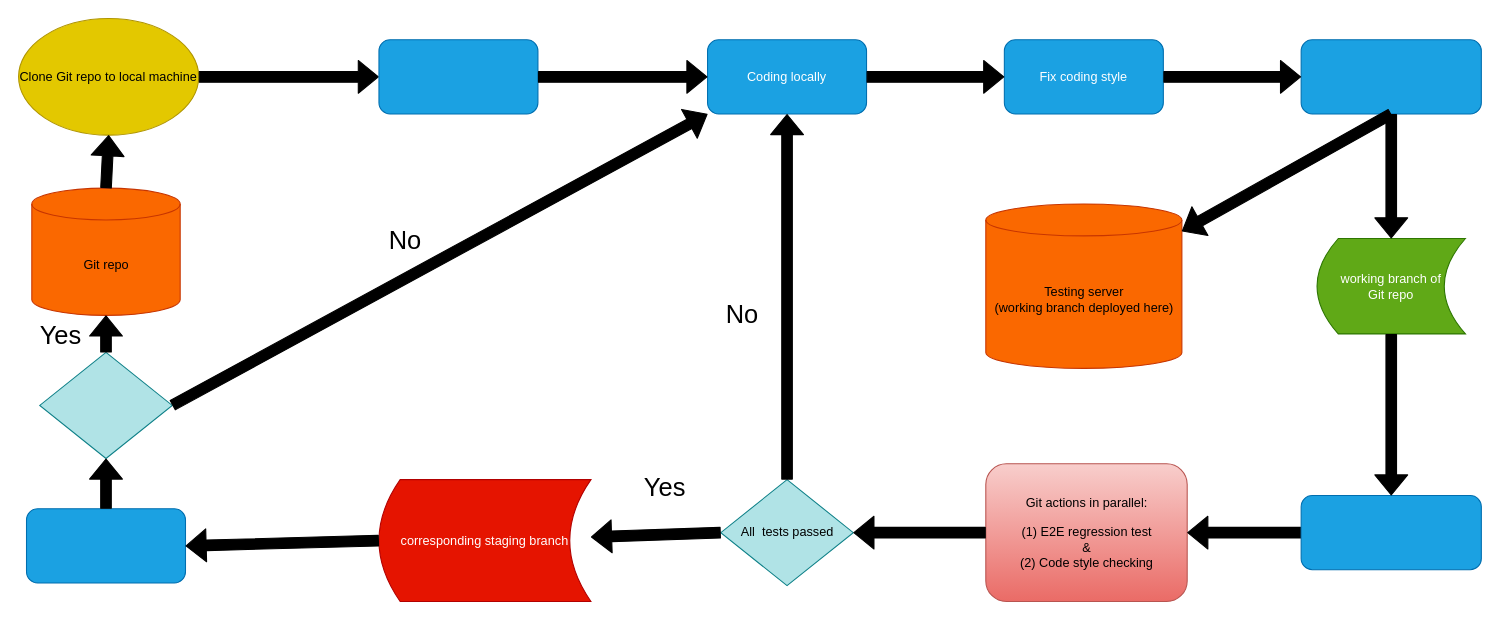
The diagram is 1500 pixels wide and 620 high, and some of its shapes have lost their labels. The box of each missing label's shape, as (x1, y1, x2, y2) in pixels:
(1) E2E test new features (2) Add new testing suite: (25, 508, 186, 583)
Check out working branch: (378, 39, 538, 114)
No bug: (39, 351, 172, 458)
Pull request to the corresponding staging branch: (1300, 494, 1481, 570)
Push current branch to both (1) Git repo & (2) testing server: (1300, 39, 1481, 114)
